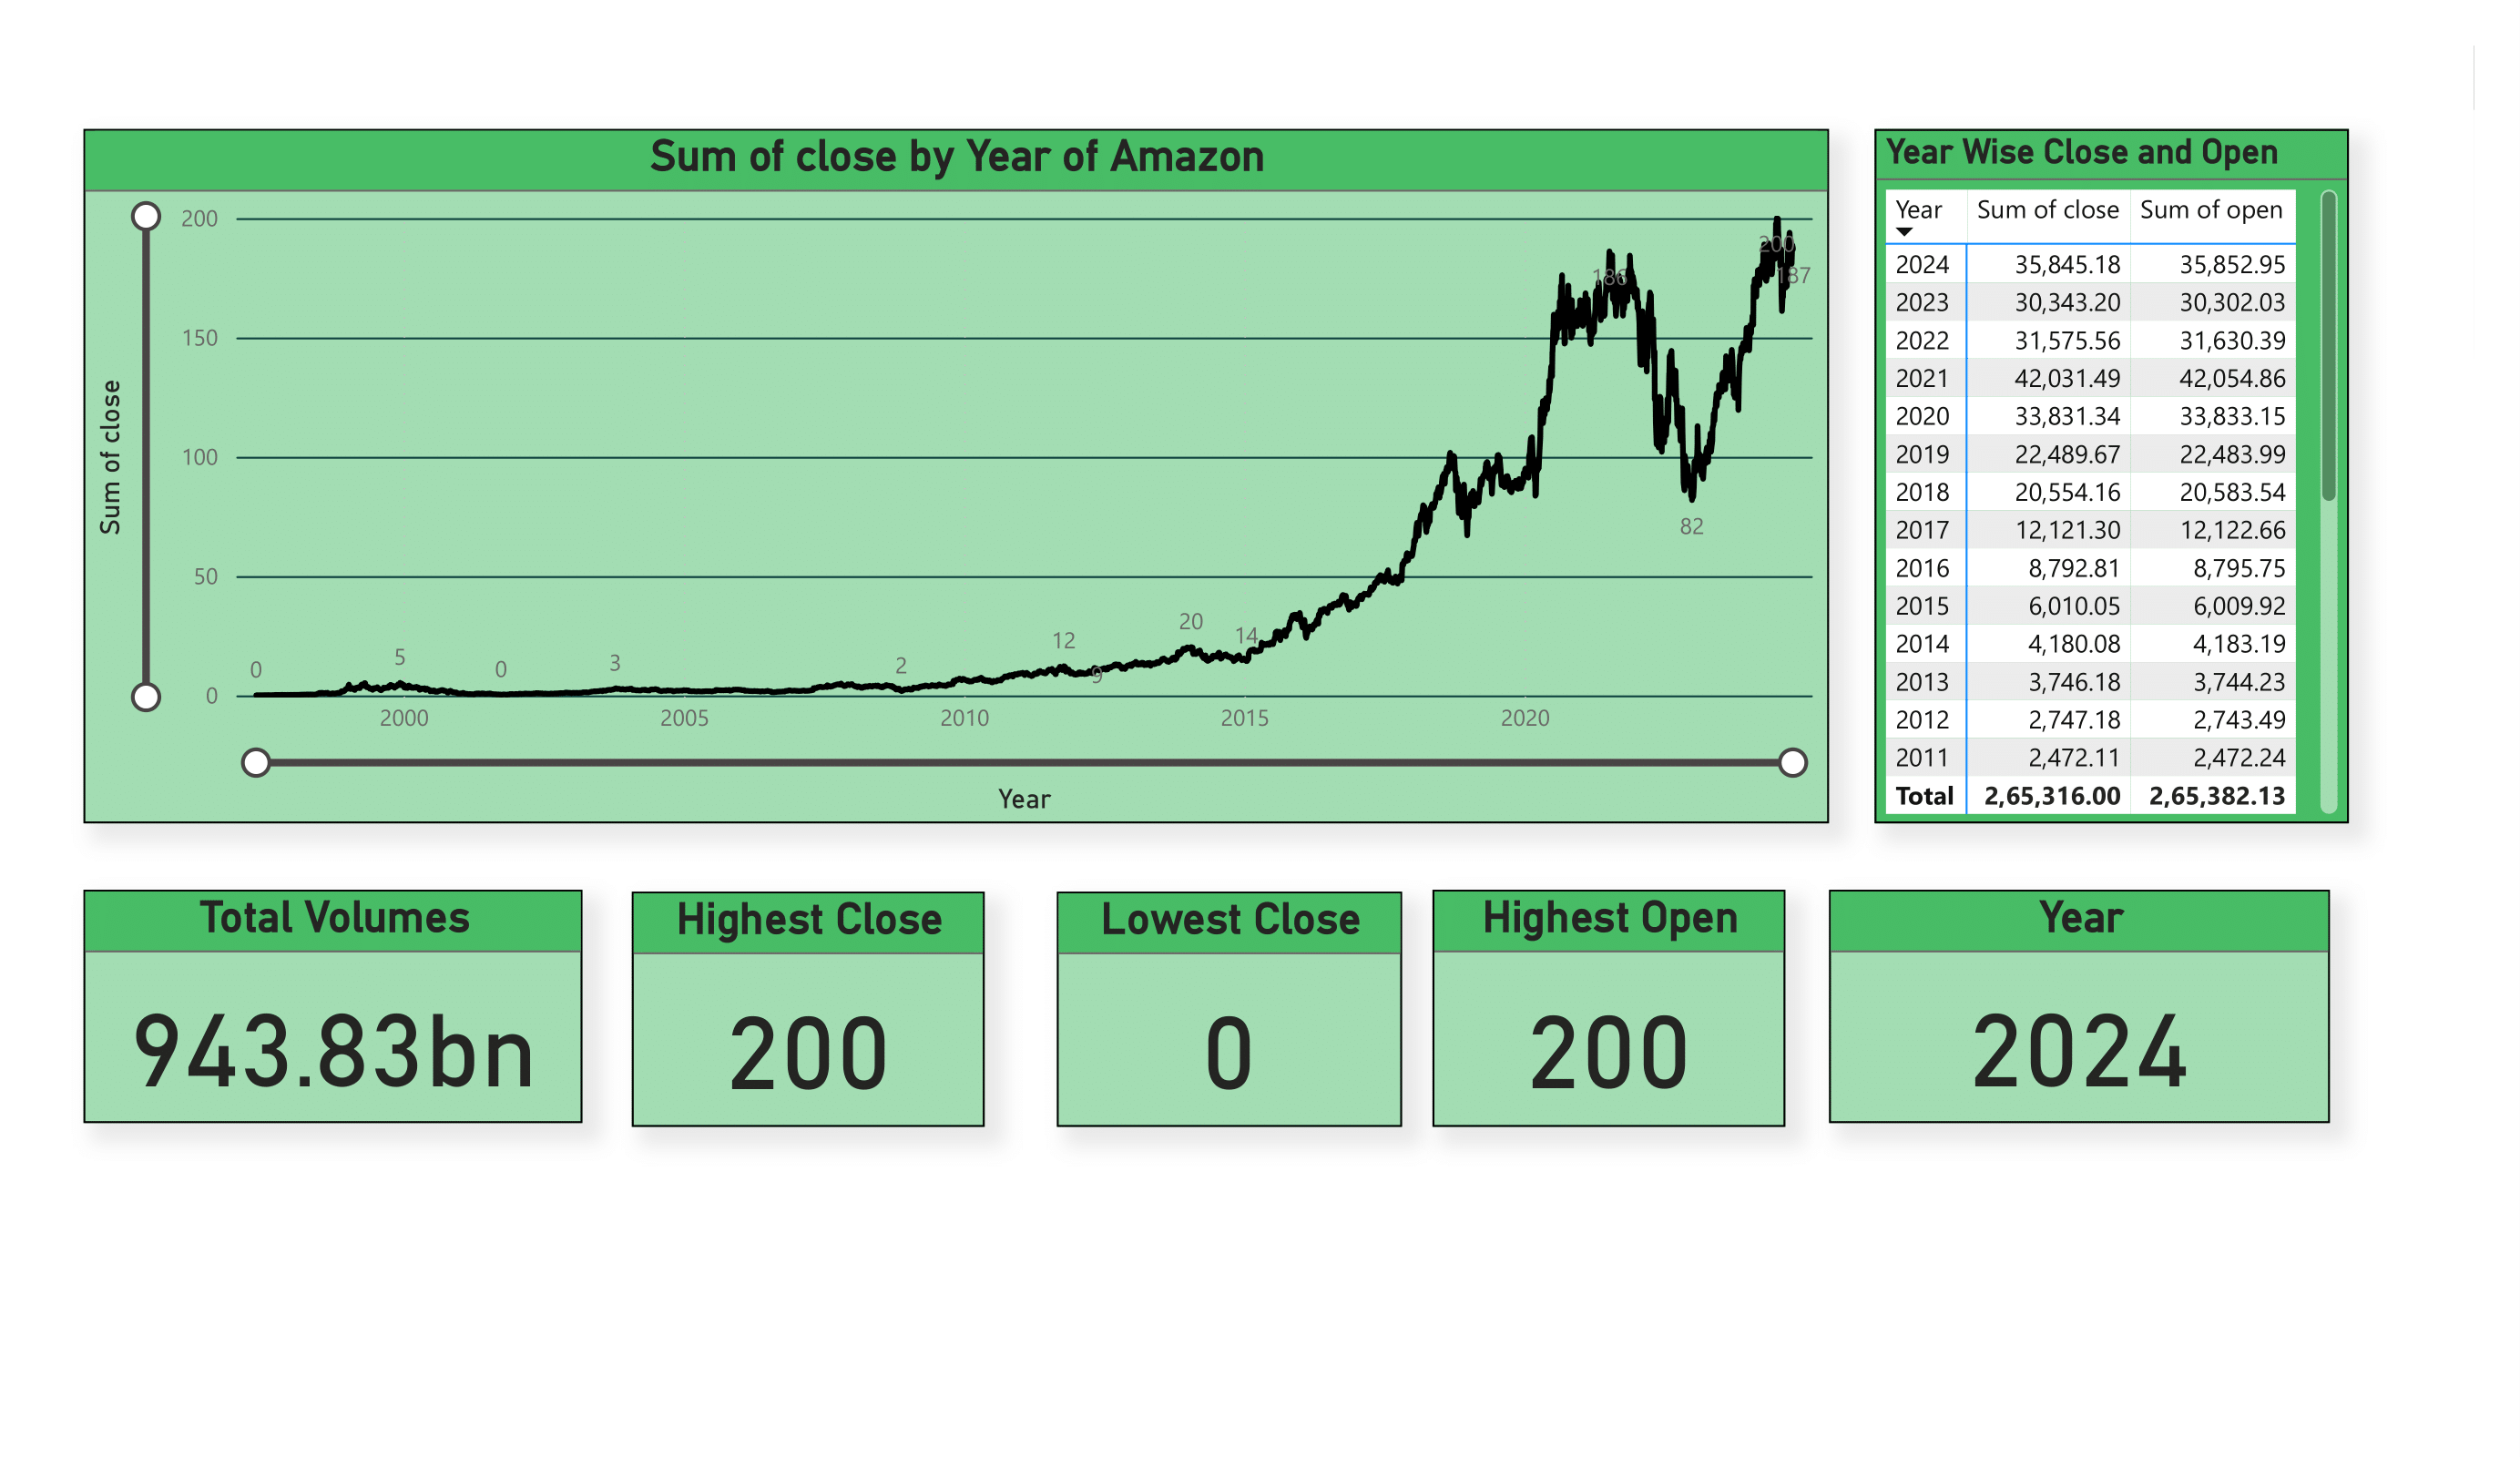

Layout of this report page (visuals, bound fields, positions):
{"tool":"powerbi","page":{"name":"Amazon","canvas":[1280,720],"ordinal":1},"visuals":[{"type":"lineChart","title":"Sum of close by Year of Amazon","fields":{"Category":["Preprocessed_AMZN_Dataset.date.Variation.Date Hierarchy.Year","Preprocessed_AMZN_Dataset.date.Variation.Date Hierarchy.Month","Preprocessed_AMZN_Dataset.date.Variation.Date Hierarchy.Day"],"Y":["Sum(Preprocessed_AMZN_Dataset.close)"]},"box":[19.8,44.2,920.3,365.7],"z":0},{"type":"pivotTable","title":"Year Wise Close and Open","fields":{"Rows":["Preprocessed_AMZN_Dataset.date.Variation.Date Hierarchy.Year"],"Values":["Sum(Preprocessed_AMZN_Dataset.close)","Sum(Preprocessed_AMZN_Dataset.open)"]},"box":[964.4,44.2,249.9,365.7],"z":1000},{"type":"card","title":"Total Volumes ","fields":{"Values":["Preprocessed_AMZN_Dataset.Measure 2"]},"box":[19.8,444.9,263.6,123.4],"z":2000},{"type":"card","title":"Highest Close","fields":{"Values":["Preprocessed_AMZN_Dataset.Higest_close"]},"box":[309.3,446.4,185.9,123.4],"z":3000},{"type":"card","title":"Lowest Close ","fields":{"Values":["Preprocessed_AMZN_Dataset.Measure"]},"box":[533.3,446.4,181.3,123.4],"z":4000},{"type":"card","title":"Highest Open","fields":{"Values":["Preprocessed_AMZN_Dataset.Higest_open"]},"box":[731.3,444.9,185.9,124.9],"z":5000},{"type":"card","title":"Year","fields":{"Values":["Max(Preprocessed_AMZN_Dataset.date.Variation.Date Hierarchy.Year)"]},"box":[940.1,444.9,263.6,123.4],"z":6000}]}

Visuals, with their boxes on the page's 1280x720 design canvas (x1, y1, x2, y2). These are canvas units, not pixel positions in the 2520x1457 screenshot, which may show the page scaled, cropped or inside an application window:
"Sum of close by Year of Amazon" lineChart: region(20, 44, 940, 410)
"Year Wise Close and Open" pivotTable: region(964, 44, 1214, 410)
"Total Volumes " card: region(20, 445, 283, 568)
"Highest Close" card: region(309, 446, 495, 570)
"Lowest Close " card: region(533, 446, 715, 570)
"Highest Open" card: region(731, 445, 917, 570)
"Year" card: region(940, 445, 1204, 568)
